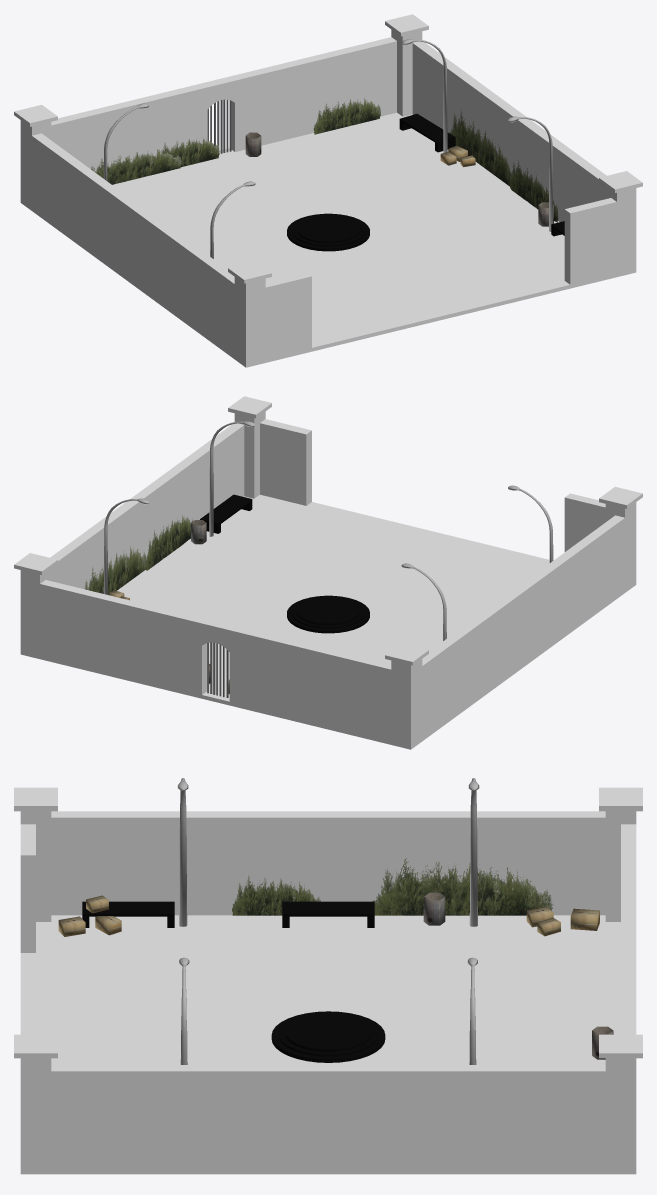
Rendered from parque.fbx.
3 renders of one model, top to bottom at view 1: azimuth 30°, elevation 25°; view 2: azimuth 150°, elevation 25°; view 3: azimuth 270°, elevation 25°, orthographic. The views are drawn at different scales.
Visible parts, largest first — view 1: Suelo, Pared.001, Pared.003, Pared, Pared.002, Pilar.002, Centro, Pilar, Pilar.001, Pilar.003, Arbusto.005, Arbusto.002 (+6 smaller); view 2: Suelo, Pared.001, Pared.003, Pared, Pared.002, Pilar.003, Centro, Pilar.001, Pilar, Pilar.002, Arbusto.005, Arbusto.006 (+2 smaller); view 3: Suelo, Pared, Pared.003, Arbusto.004, Centro, Pilar, Pilar.001, Pared.001, Pilar.002, Pilar.003, Pared.002, Arbusto.003 (+8 smaller).
Part boxes in pixels (x1,y1,x2,y2): Suelo: (20,112,636,367); Pared.001: (51,37,396,171); Pared.003: (32,133,234,355); Pared: (412,41,606,221); Pared.002: (265,198,616,358); Pilar.002: (228,261,271,363); Centro: (287,213,369,251); Pilar: (599,171,642,273); Pilar.001: (385,14,428,116); Pilar.003: (14,104,57,206); Arbusto.005: (449,109,513,186); Arbusto.002: (91,149,181,184); Suelo: (20,494,636,749); Pared.001: (40,580,391,740); Pared.003: (422,515,624,737); Pared: (50,423,244,589); Pared.002: (260,419,605,551); Pilar.003: (385,643,428,745); Centro: (287,595,369,633); Pilar.001: (14,553,57,655); Pilar: (228,396,271,498); Pilar.002: (599,486,642,588); Arbusto.005: (84,546,146,594); Arbusto.006: (145,515,192,570); Suelo: (20,915,636,1174); Pared: (51,1065,605,1168); Pared.003: (51,811,605,915); Arbusto.004: (372,858,553,915); Centro: (271,1011,385,1062); Pilar: (14,1034,57,1168); Pilar.001: (599,1034,642,1168); Pared.001: (621,824,636,1034); Pilar.002: (14,787,57,921); Pilar.003: (599,787,642,921); Pared.002: (20,824,35,1034); Arbusto.003: (232,875,320,915).
Bounding box in the file's own units: 2043 × 670 × 2043.
10 materials, 3 textured.
